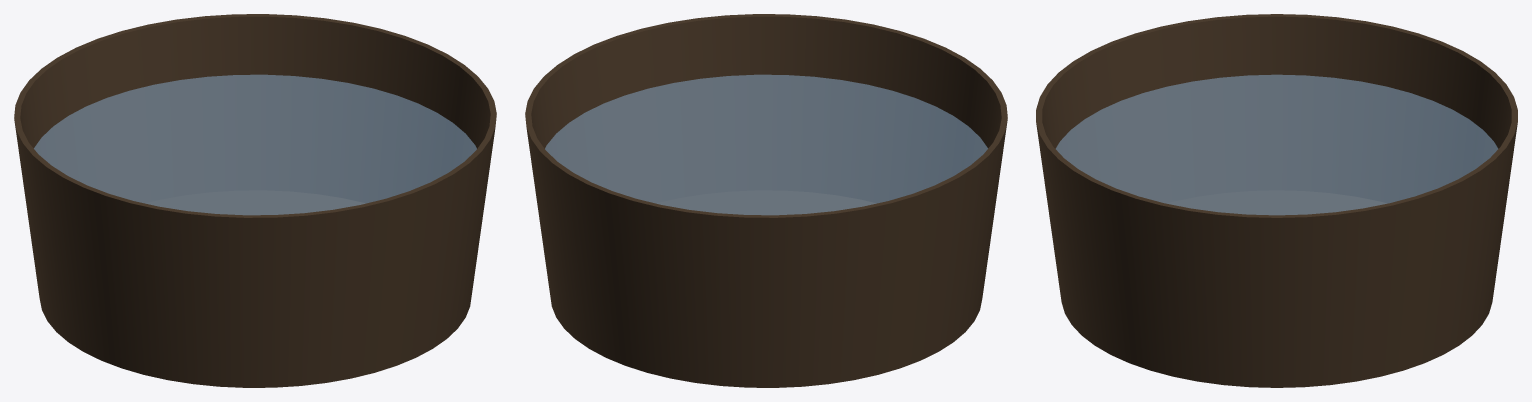
File: SM_BathWood.fbx
The picture shows the model from 3 angles, left to right: view 1: azimuth 30°, elevation 25°; view 2: azimuth 150°, elevation 25°; view 3: azimuth 270°, elevation 25°; orthographic projection.
Visible parts, largest first — view 1: SM_BathWood; view 2: SM_BathWood; view 3: SM_BathWood.
Part boxes in pixels (x1,y1,x2,y2): SM_BathWood: [14, 14, 496, 387]; SM_BathWood: [525, 14, 1007, 387]; SM_BathWood: [1036, 14, 1517, 387].
Bounding box in the file's own units: 152 × 62.96 × 152.
